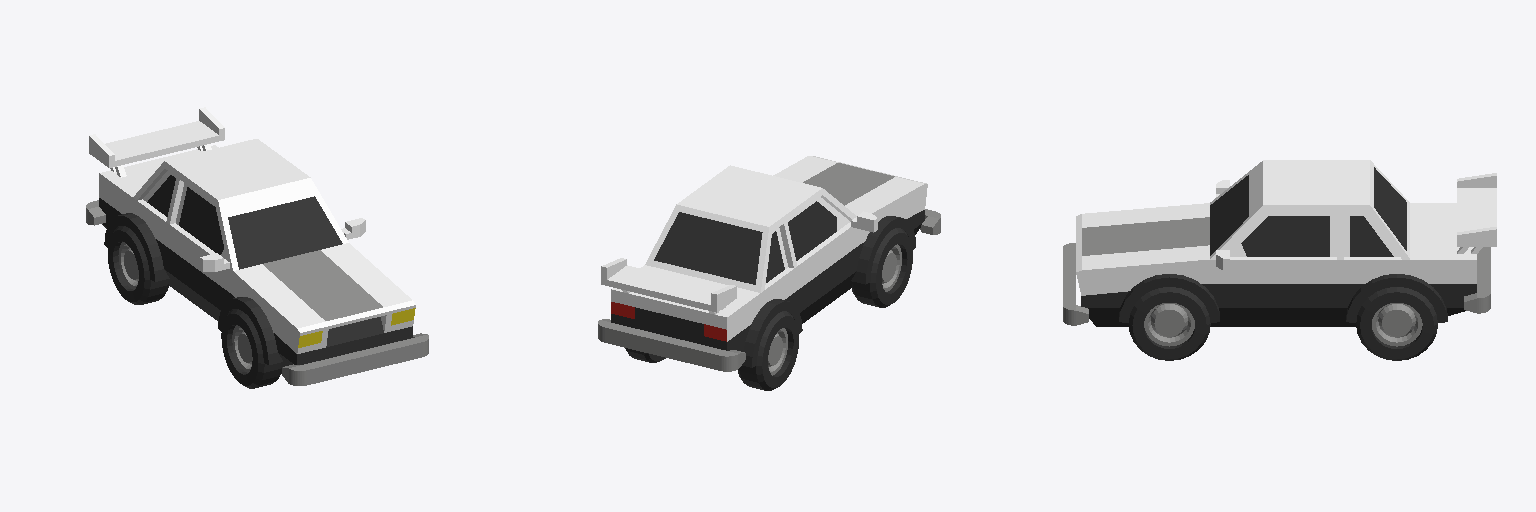
File: car_sports_white.obj
3 views of the same model, side by side, from view 1: azimuth 30°, elevation 25°; view 2: azimuth 150°, elevation 25°; view 3: azimuth 270°, elevation 25° (orthographic).
Visible parts, largest first — view 1: mergedBlocks; view 2: mergedBlocks; view 3: mergedBlocks.
Part boxes in pixels (left/top/right/bottom): mergedBlocks: left=86, top=107, right=428, bottom=388; mergedBlocks: left=598, top=156, right=940, bottom=390; mergedBlocks: left=1063, top=160, right=1496, bottom=360.
Size of the model in its own units: 1.4 by 1.21 by 3.25.